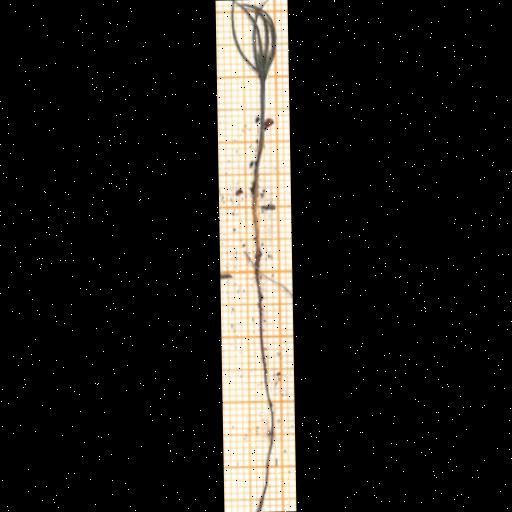flowerPinus: (231, 0, 277, 82)
rootPinus: (255, 218, 273, 511)
stemPinus: (252, 81, 267, 211)
